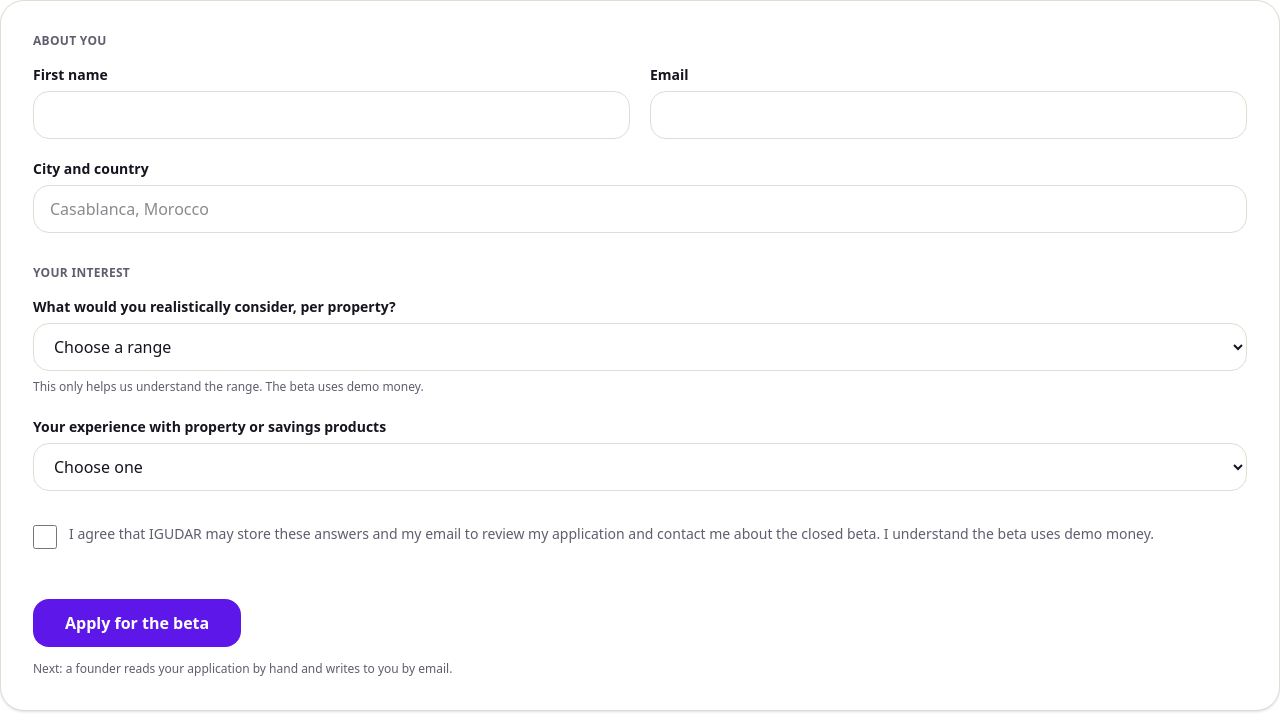
BetaApplicationForm › posts the beta payload with source 'beta' and the locale, and shows the success state
Type "Salma" into the field labelled "First name" at (332, 115), box [33,91,630,139]
Type "salma@example.com" into the field labelled "Email" at (948, 115), box [650,91,1247,139]
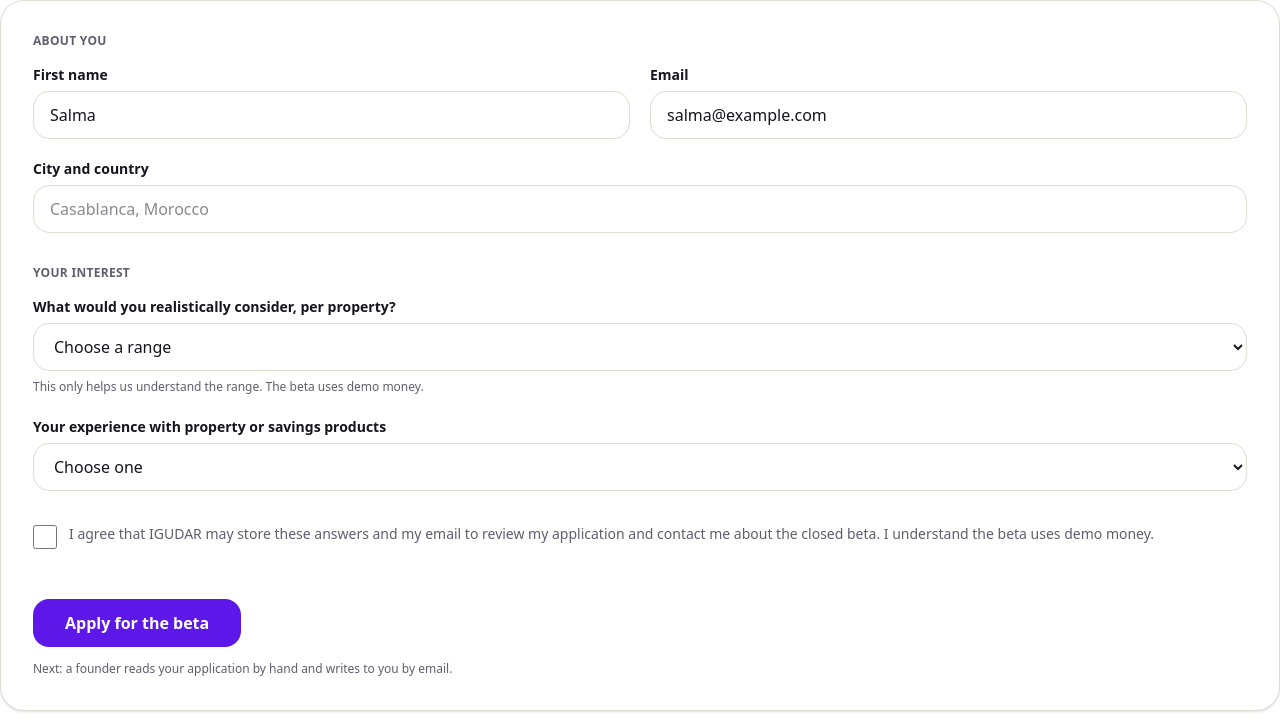
Type "Paris, France" into the field labelled "City and country" at (640, 209), box [33,185,1247,233]
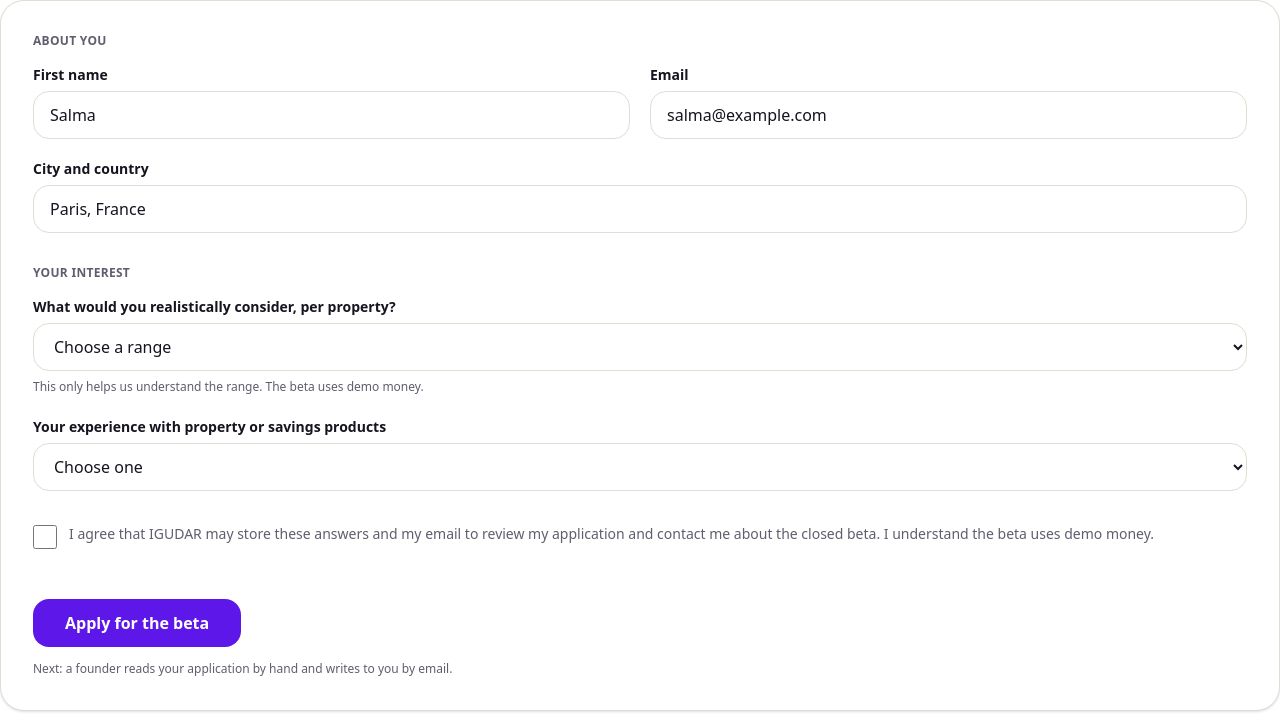
Select "25,000 MAD to 50,000 MAD" in the dropdown labelled "What would you realistically consider, per property?" at (640, 347), box [33,323,1247,371]
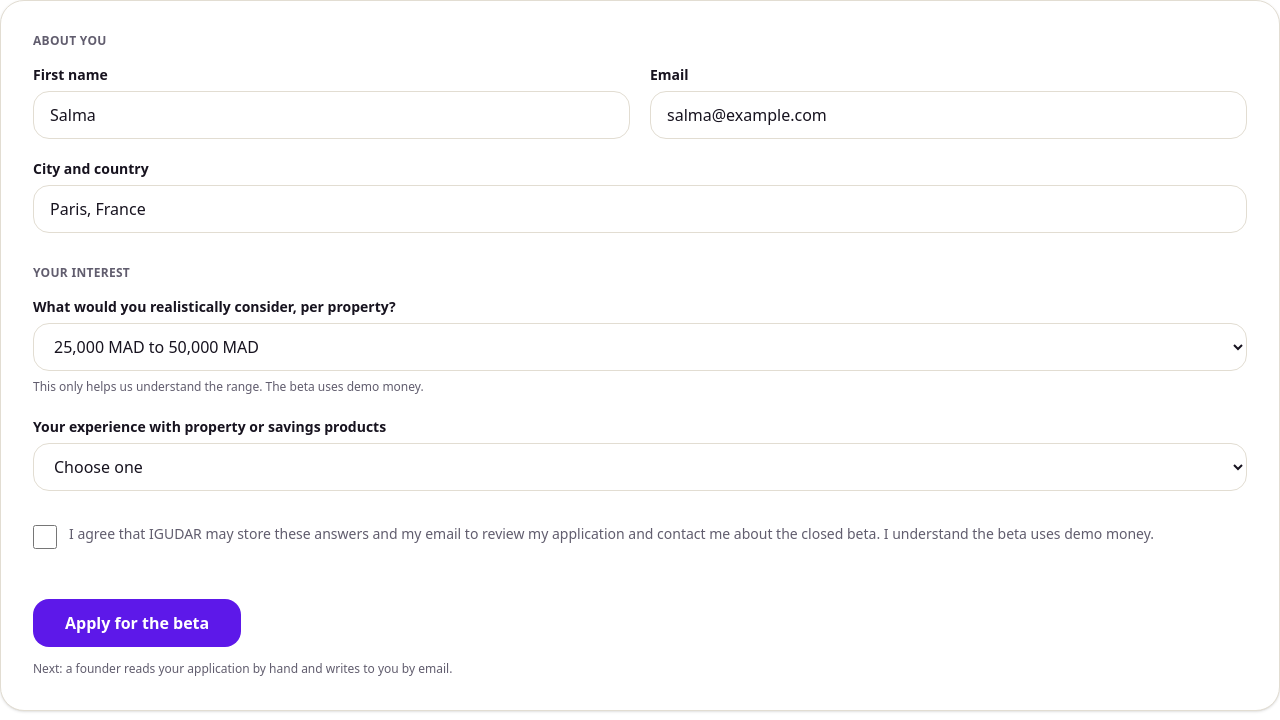
Select "Some experience (savings products, a rental, or a first look)" in the dropdown labelled "Your experience with property or savings products" at (640, 466), box [33,442,1247,490]
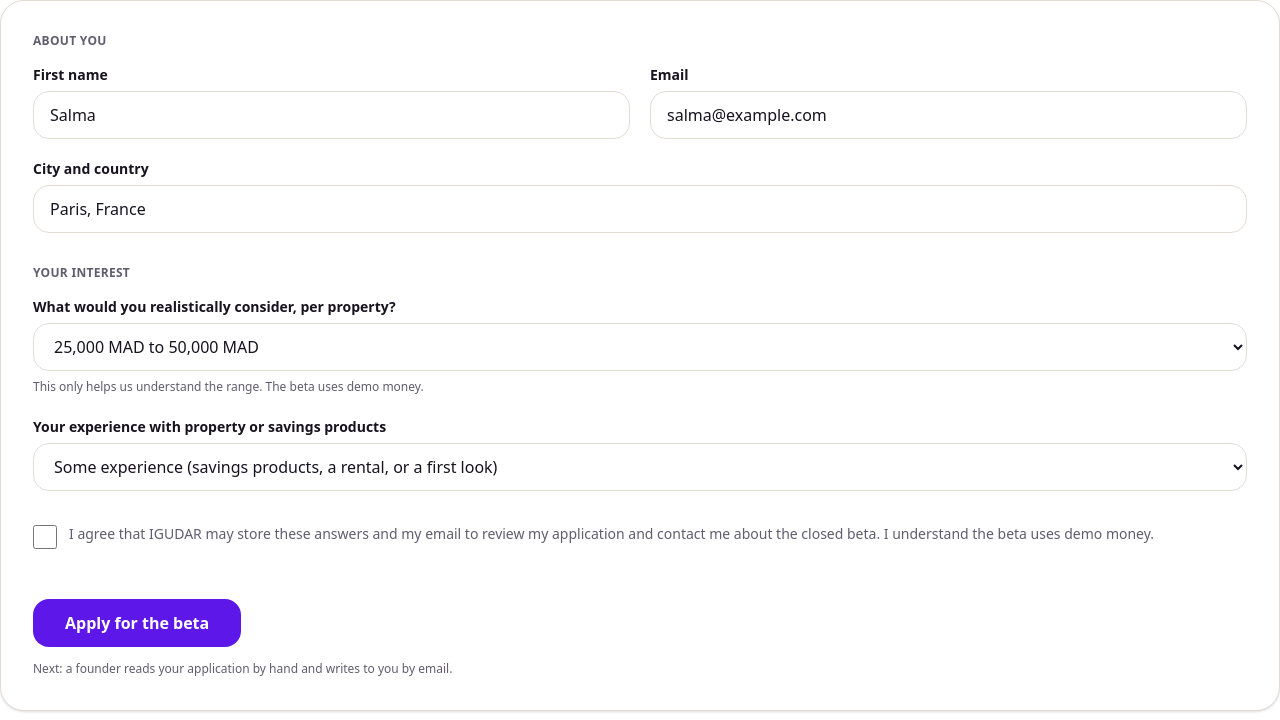
Click the checkbox at (45, 536), box [33,524,57,548]
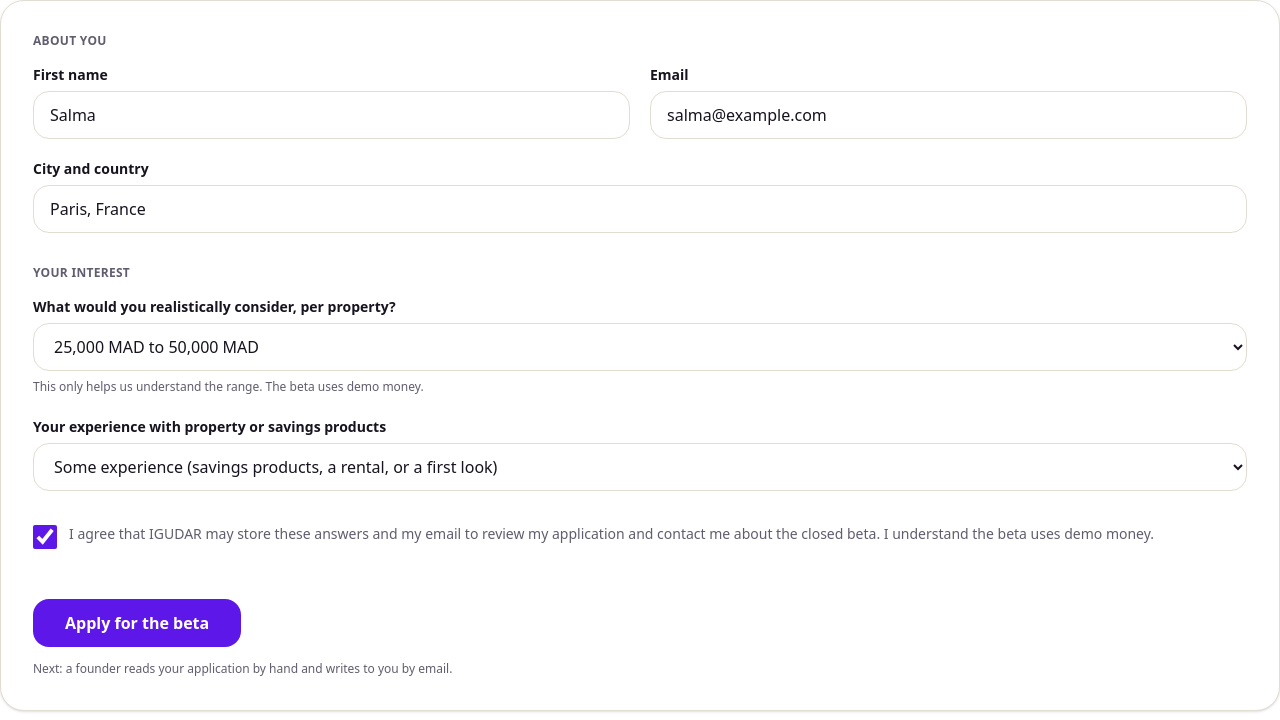
Click the button "Apply for the beta" at (137, 622), box [33,598,241,646]
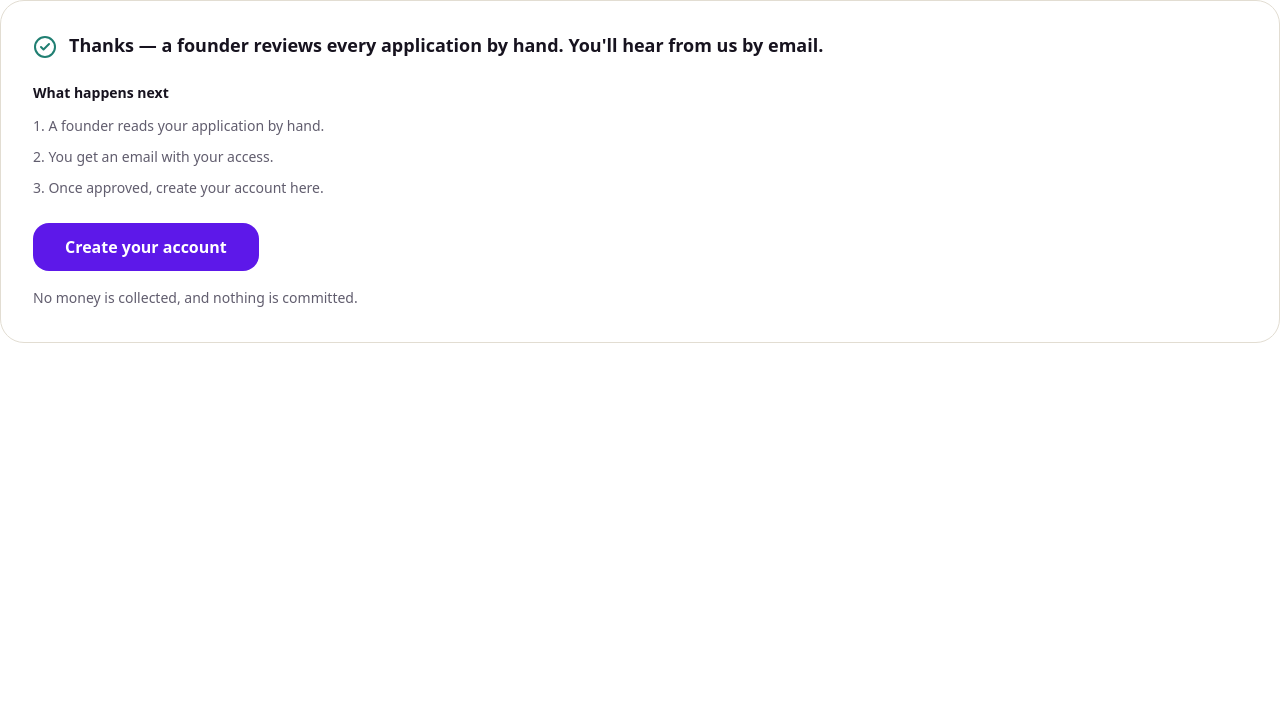
Expected: the text "Thanks — a founder reviews every application by hand. You'll hear from us by email." is shown, [69,33,823,57]
Expected: the list item "3. Once approved, create your account here." is shown, [33,178,324,196]
